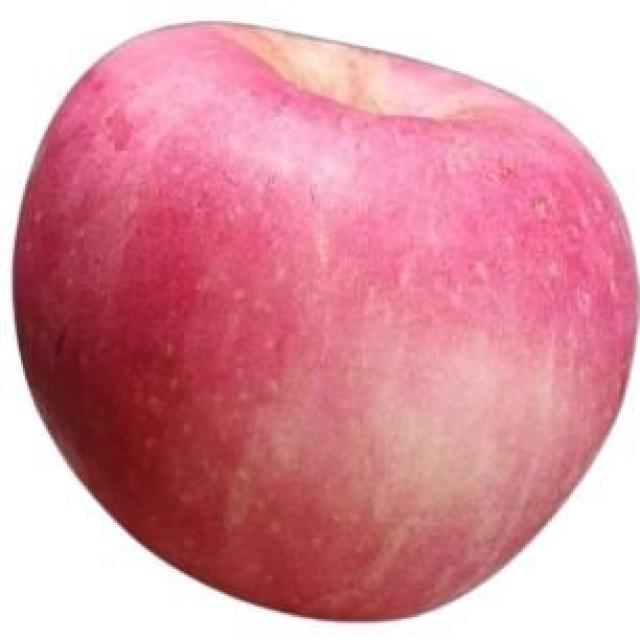Rotten Apple: (20, 35, 622, 610)
